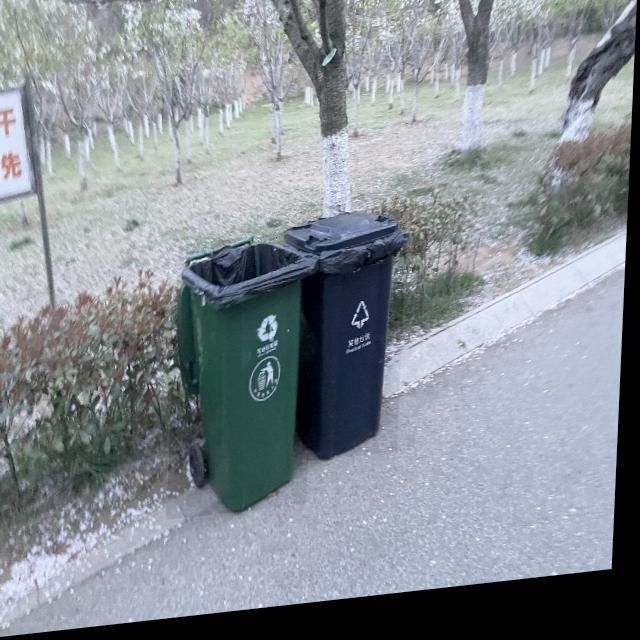garbage_bin: (171, 237, 321, 524), (278, 215, 411, 472)
